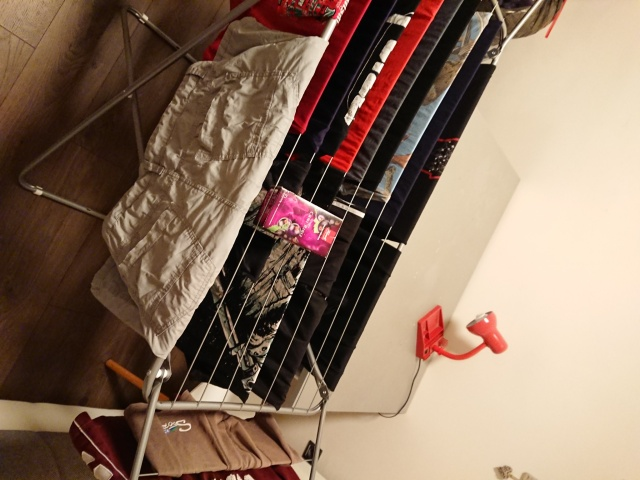Franck Black Currant Tea 60g: (251, 183, 346, 260)
